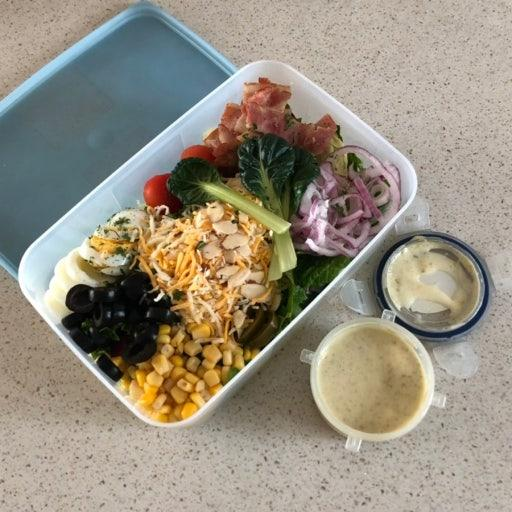Lunch Box: (0, 2, 416, 427), (300, 197, 511, 451)
